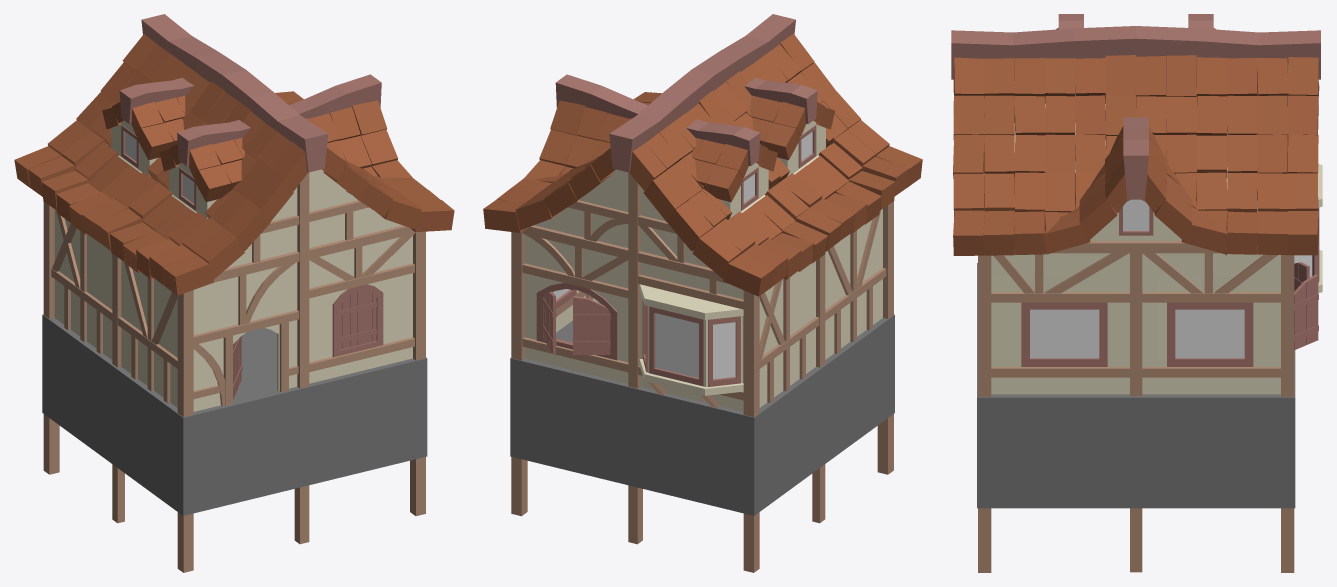
Rendered from fang05_6.fbx.
3 renders of one model, left to right at view 1: azimuth 30°, elevation 25°; view 2: azimuth 150°, elevation 25°; view 3: azimuth 270°, elevation 25°, orthographic. The views are drawn at different scales.
Visible parts, largest first — view 1: diban, wuding, zhuzi, fang05, wuyan, wuding.002, wuding.001, chuanghu.005, chuangmen; view 2: diban, wuding, zhuzi, fang05, wuyan, wuding.002, chuanghu.005, boli, wuding.001, chuangmen.002, chuangmen.001; view 3: wuding, diban, fang05, zhuzi, wuyan, wuding.001, boli, chuanghu.005, chuangmen.001.
Part boxes in pixels (x1,y1,x2,y2): diban: (42, 314, 427, 515); wuding: (14, 34, 454, 295); zhuzi: (43, 172, 425, 572); fang05: (54, 120, 412, 411); wuyan: (119, 14, 381, 172); wuding.002: (102, 95, 244, 202); wuding.001: (306, 100, 413, 178); chuanghu.005: (121, 125, 383, 357); chuangmen: (339, 290, 376, 349); diban: (510, 301, 894, 515); wuding: (483, 33, 922, 296); zhuzi: (511, 172, 893, 572); fang05: (524, 120, 882, 411); wuyan: (555, 14, 817, 172); wuding.002: (691, 95, 834, 202); chuanghu.005: (536, 125, 816, 386); boli: (553, 131, 812, 379); wuding.001: (524, 100, 631, 179); chuangmen.002: (573, 296, 610, 354); chuangmen.001: (543, 291, 556, 353); wuding: (953, 55, 1319, 255); diban: (977, 263, 1295, 508); fang05: (991, 94, 1322, 394); zhuzi: (978, 241, 1294, 572); wuyan: (951, 14, 1320, 199); wuding.001: (1043, 126, 1228, 254); boli: (1030, 199, 1312, 358); chuanghu.005: (1021, 199, 1319, 366); chuangmen.001: (1294, 274, 1318, 350).
Size of the model in its own units: 606 by 863 by 613.
